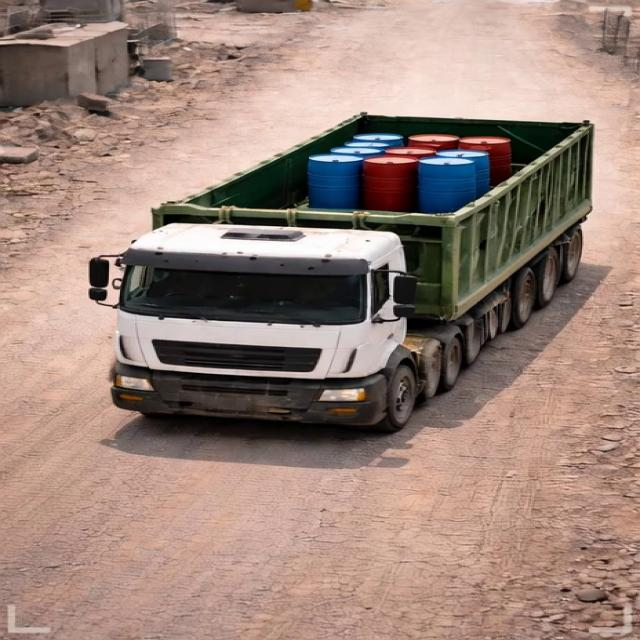trailer: (152, 110, 598, 228)
truck: (81, 85, 617, 426)
